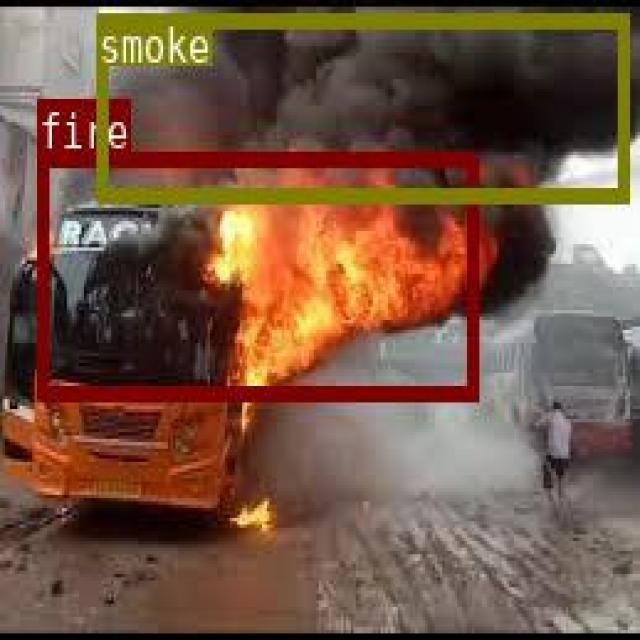fire: (35, 150, 475, 399)
smoke: (96, 11, 627, 200)
